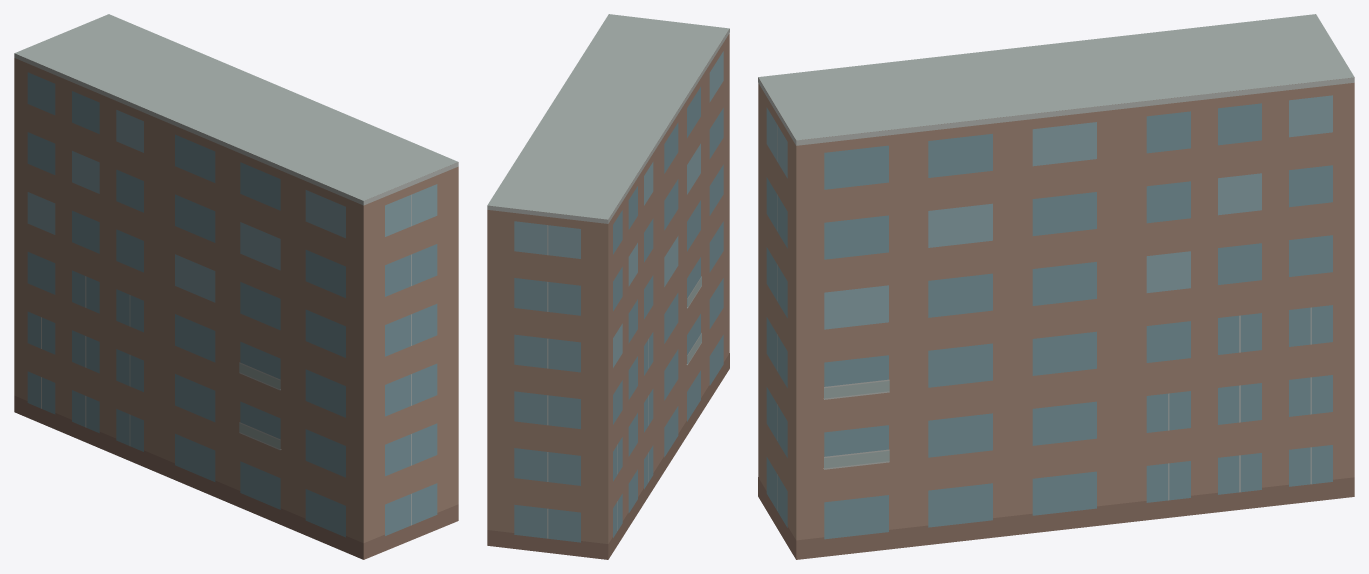
The model's file is survey-upis-32561543.glb.
3 renders of one model, left to right at view 1: azimuth 30°, elevation 25°; view 2: azimuth 150°, elevation 25°; view 3: azimuth 270°, elevation 25°, orthographic. The views are drawn at different scales.
Visible parts, largest first — view 1: survey-upis-32561543.tmp; view 2: survey-upis-32561543.tmp; view 3: survey-upis-32561543.tmp.
Part boxes in pixels (x1,y1,x2,y2): survey-upis-32561543.tmp: (14,14,458,559); survey-upis-32561543.tmp: (487,14,729,559); survey-upis-32561543.tmp: (758,14,1354,559).
Size of the model in its own units: 12.38 by 19.12 by 24.66.
